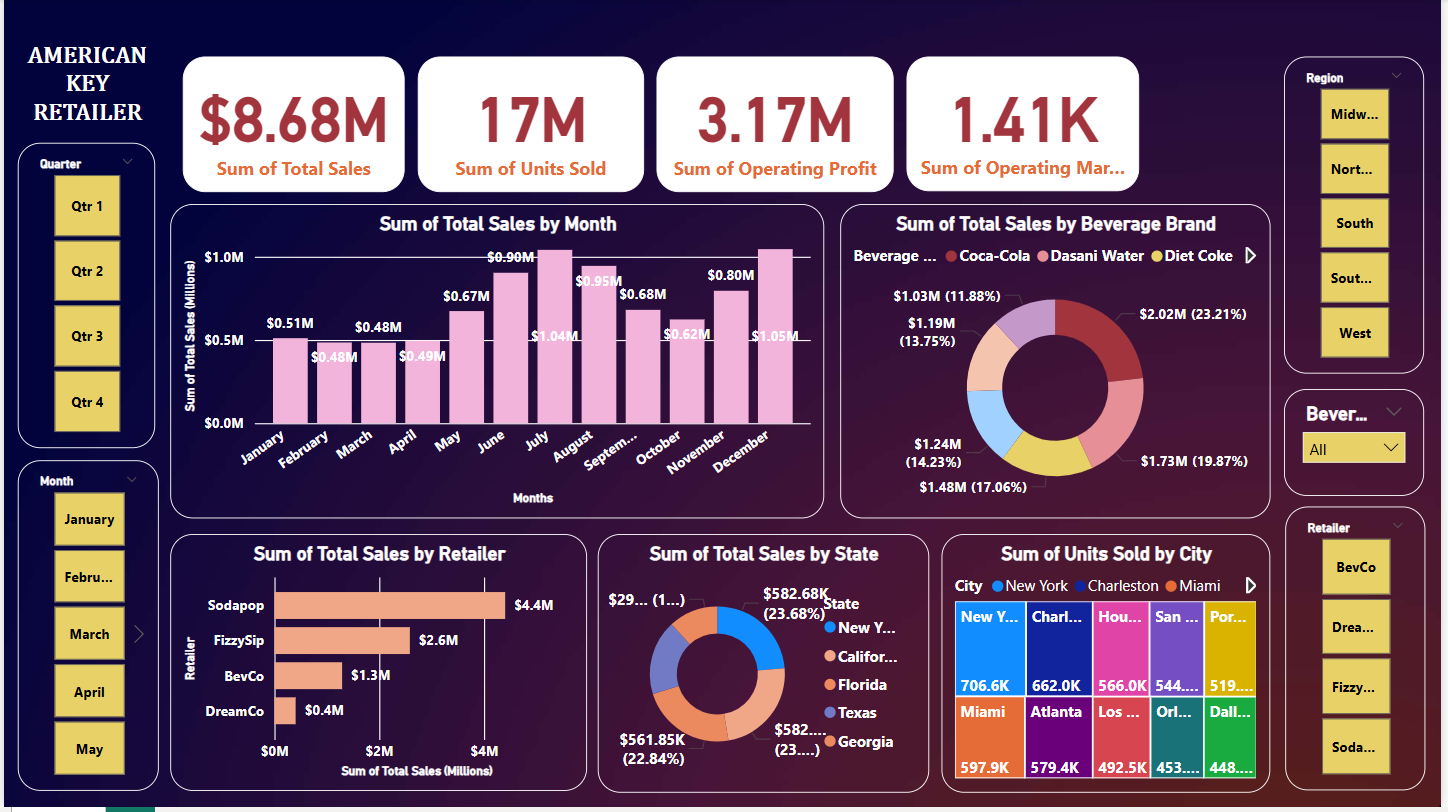

This screenshot's page, from the dashboard's own definition file:
{"tool":"powerbi","page":{"name":"Page 1","canvas":[1280,720],"ordinal":0},"visuals":[{"type":"slicer","fields":{"Values":["Sheet1.Retailer"]},"box":[1141.4,452.1,124.6,252.7],"z":0},{"type":"slicer","fields":{"Values":["Sheet1.Region"]},"box":[1140.2,51,124.6,282.4],"z":1000},{"type":"slicer","fields":{"Values":["Sheet1.Invoice Date.Variation.Date Hierarchy.Month"]},"box":[11.9,410.5,125.8,294.3],"z":2000},{"type":"slicer","fields":{"Values":["Sheet1.Invoice Date.Variation.Date Hierarchy.Quarter"]},"box":[12.3,127.6,122.1,271.7],"z":3000},{"type":"slicer","fields":{"Values":["Sheet1.Beverage Brand"]},"box":[1140.2,347.6,124.6,94.9],"z":4000},{"type":"card","fields":{"Values":["Sum(Sheet1.Total Sales)"]},"box":[159.2,50.8,197.6,120.8],"z":5000},{"type":"card","fields":{"Values":["Sum(Sheet1.Units Sold)"]},"box":[368.2,50.8,201.7,120.8],"z":6000},{"type":"card","fields":{"Values":["Sum(Sheet1.Operating Profit)"]},"box":[581.4,50.8,211.3,120.8],"z":7000},{"type":"card","fields":{"Values":["Sum(Sheet1.Operating Margin)"]},"box":[803.8,51.2,207.5,120],"z":8000},{"type":"columnChart","fields":{"Category":["Sheet1.Invoice Date.Variation.Date Hierarchy.Month"],"Y":["Sum(Sheet1.Total Sales)"]},"box":[147.5,182.5,582.5,280],"z":9000},{"type":"donutChart","fields":{"Y":["Sum(Sheet1.Total Sales)"],"Category":["Sheet1.Beverage Brand"]},"box":[745.1,182.5,382.8,279.9],"z":10000},{"type":"barChart","fields":{"Y":["Sum(Sheet1.Total Sales)"],"Category":["Sheet1.Retailer"]},"box":[147.5,476.2,371.2,228.8],"z":11000},{"type":"treemap","fields":{"Group":["Sheet1.City"],"Values":["Sum(Sheet1.Units Sold)"]},"box":[835,476.2,292.5,230],"z":12000},{"type":"donutChart","fields":{"Y":["Sum(Sheet1.Total Sales)"],"Category":["Sheet1.State"]},"box":[528.8,476.2,295,230],"z":13000},{"type":"textbox","box":[0,33.4,148.1,86.8],"z":14000}]}

Visuals, with their boxes in screenshot pixels (x1, y1, x2, y2), scaled from the page's 1280x720 canvas onto the 1448x812 screenshot:
slicer - Sheet1.Retailer: (x1=1291, y1=510, x2=1432, y2=795)
slicer - Sheet1.Region: (x1=1290, y1=58, x2=1431, y2=376)
slicer - Sheet1.Invoice Date.Variation.Date Hierarchy.Month: (x1=13, y1=463, x2=156, y2=795)
slicer - Sheet1.Invoice Date.Variation.Date Hierarchy.Quarter: (x1=14, y1=144, x2=152, y2=450)
slicer - Sheet1.Beverage Brand: (x1=1290, y1=392, x2=1431, y2=499)
card - Sum(Sheet1.Total Sales): (x1=180, y1=57, x2=404, y2=194)
card - Sum(Sheet1.Units Sold): (x1=417, y1=57, x2=645, y2=194)
card - Sum(Sheet1.Operating Profit): (x1=658, y1=57, x2=897, y2=194)
card - Sum(Sheet1.Operating Margin): (x1=909, y1=58, x2=1144, y2=193)
columnChart - Sheet1.Invoice Date.Variation.Date Hierarchy.Month x Sum(Sheet1.Total Sales): (x1=167, y1=206, x2=826, y2=522)
donutChart - Sum(Sheet1.Total Sales) x Sheet1.Beverage Brand: (x1=843, y1=206, x2=1276, y2=521)
barChart - Sum(Sheet1.Total Sales) x Sheet1.Retailer: (x1=167, y1=537, x2=587, y2=795)
treemap - Sheet1.City x Sum(Sheet1.Units Sold): (x1=945, y1=537, x2=1275, y2=796)
donutChart - Sum(Sheet1.Total Sales) x Sheet1.State: (x1=598, y1=537, x2=932, y2=796)
textbox: (x1=0, y1=38, x2=168, y2=136)
